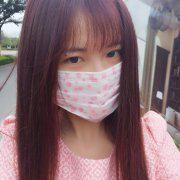OK: (54, 41, 135, 122)
